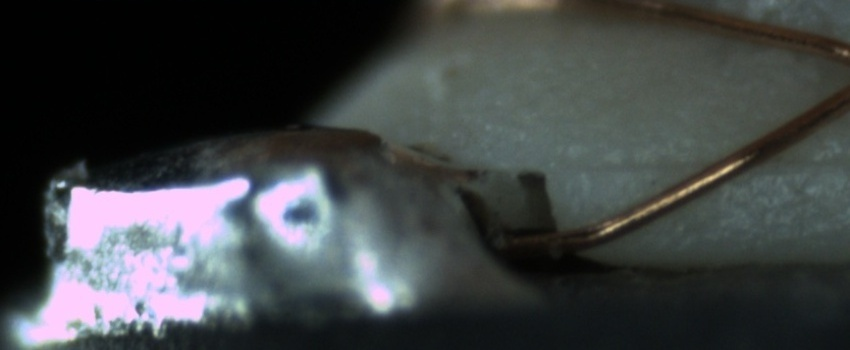DL: (576, 133, 846, 195)
